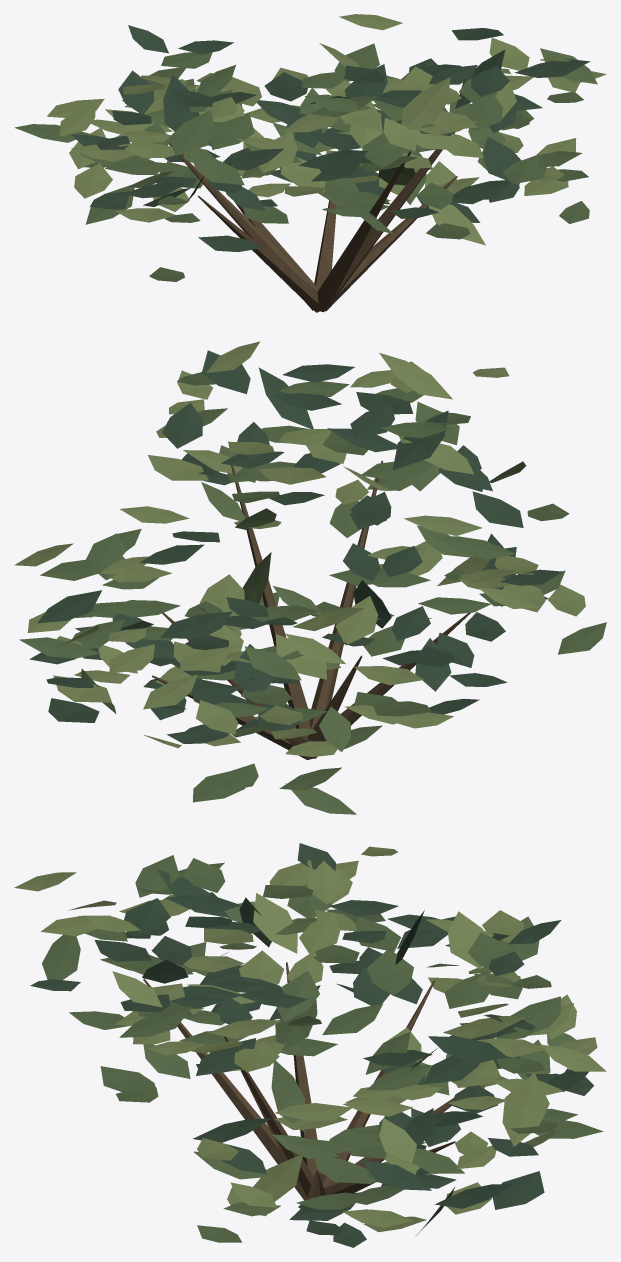
The model's file is NA_Shrub_2.glb.
The picture shows the model from 3 angles, top to bottom: view 1: azimuth 30°, elevation 25°; view 2: azimuth 150°, elevation 25°; view 3: azimuth 270°, elevation 25°; orthographic projection. The views are drawn at different scales.
Parts seen in each view (by area): view 1: NA_Shrub_2; view 2: NA_Shrub_2; view 3: NA_Shrub_2.
Part boxes in pixels (box(x1,y1,x2,y2)): NA_Shrub_2: box(14, 14, 606, 312); NA_Shrub_2: box(14, 341, 606, 814); NA_Shrub_2: box(14, 843, 606, 1247).
Size of the model in its own units: 1.29 by 0.7863 by 1.3.
4 materials, 1 textured.
